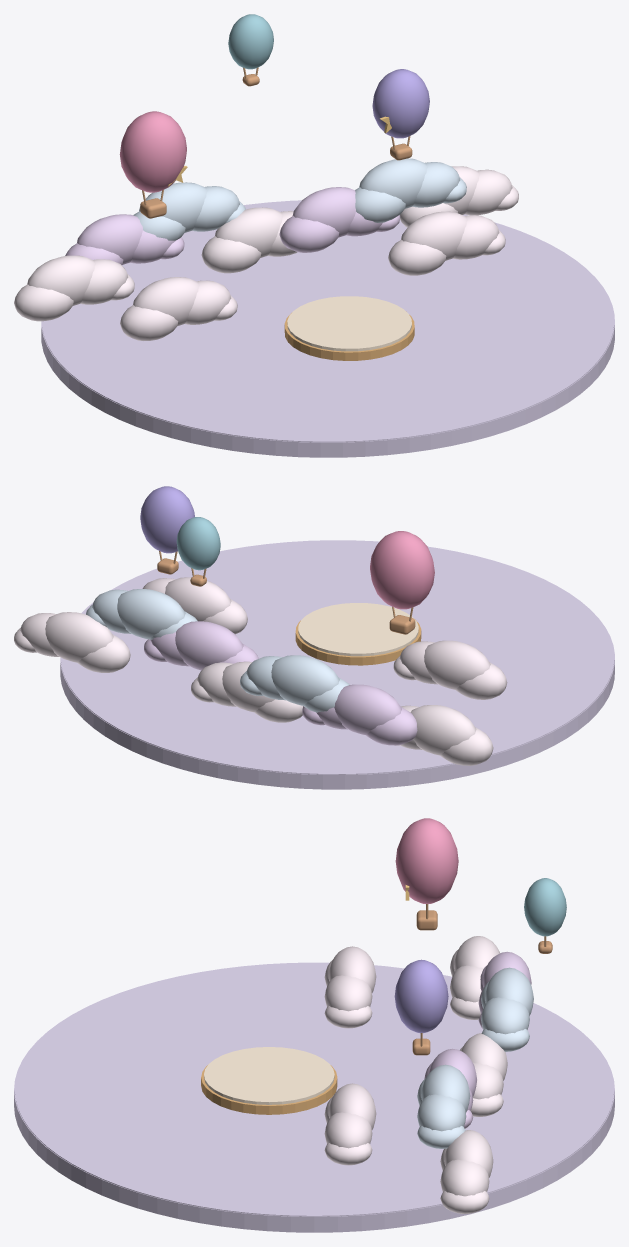
The model's file is nuvens.glb.
3 views of the same model, one above another, from view 1: azimuth 30°, elevation 25°; view 2: azimuth 150°, elevation 25°; view 3: azimuth 270°, elevation 25° (orthographic). The views are drawn at different scales.
Parts seen in each view (by area): view 1: Diorama piping.006, Diorama base.006, Look pedestal.006, Hot air balloon, Hot air balloon.001, Puffy cloud.017, Puffy cloud.037, Puffy cloud.021, Puffy cloud.033, Puffy cloud.029, Puffy cloud.045, Puffy cloud.049 (+18 smaller); view 2: Diorama piping.006, Diorama base.006, Look pedestal.006, Hot air balloon, Hot air balloon.001, Puffy cloud.037, Puffy cloud.025, Puffy cloud.041, Puffy cloud.033, Puffy cloud.021, Puffy cloud.045, Puffy cloud.017 (+17 smaller); view 3: Diorama piping.006, Diorama base.006, Look pedestal.006, Hot air balloon, Hot air balloon.001, Hot air balloon.002, Look pedestal trim.006, Puffy cloud.042, Puffy cloud.038, Puffy cloud.026, Puffy cloud.046, Puffy cloud.050 (+16 smaller).
Boxes of the visible parts, <box> form: Diorama piping.006: <box>42,200,614,442</box>; Diorama base.006: <box>41,287,614,457</box>; Look pedestal.006: <box>287,296,411,351</box>; Hot air balloon: <box>119,111,186,192</box>; Hot air balloon.001: <box>372,69,429,138</box>; Puffy cloud.017: <box>27,255,95,305</box>; Puffy cloud.037: <box>359,158,427,208</box>; Puffy cloud.021: <box>77,214,142,264</box>; Puffy cloud.033: <box>292,187,355,237</box>; Puffy cloud.029: <box>214,207,283,257</box>; Puffy cloud.045: <box>133,277,199,325</box>; Puffy cloud.049: <box>401,211,467,260</box>; Diorama piping.006: <box>61,540,614,774</box>; Diorama base.006: <box>60,626,614,789</box>; Look pedestal.006: <box>298,603,418,656</box>; Hot air balloon: <box>370,531,434,609</box>; Hot air balloon.001: <box>140,486,194,553</box>; Puffy cloud.037: <box>117,589,185,639</box>; Puffy cloud.025: <box>271,655,339,705</box>; Puffy cloud.041: <box>45,612,113,662</box>; Puffy cloud.033: <box>175,621,243,670</box>; Puffy cloud.021: <box>334,684,401,734</box>; Puffy cloud.045: <box>424,640,490,689</box>; Puffy cloud.017: <box>410,705,476,755</box>; Diorama piping.006: <box>14,962,614,1216</box>; Diorama base.006: <box>14,1051,614,1232</box>; Look pedestal.006: <box>204,1047,334,1104</box>; Hot air balloon: <box>395,818,458,903</box>; Hot air balloon.001: <box>394,959,448,1033</box>; Hot air balloon.002: <box>524,878,566,936</box>; Look pedestal trim.006: <box>201,1065,337,1114</box>; Puffy cloud.042: <box>440,1159,489,1196</box>; Puffy cloud.038: <box>417,1094,466,1131</box>; Puffy cloud.026: <box>481,997,529,1034</box>; Puffy cloud.046: <box>324,975,372,1011</box>; Puffy cloud.050: <box>324,1112,372,1148</box>.
Size of what is drawn, in the model's own units: 8.83 by 3.85 by 8.64.
